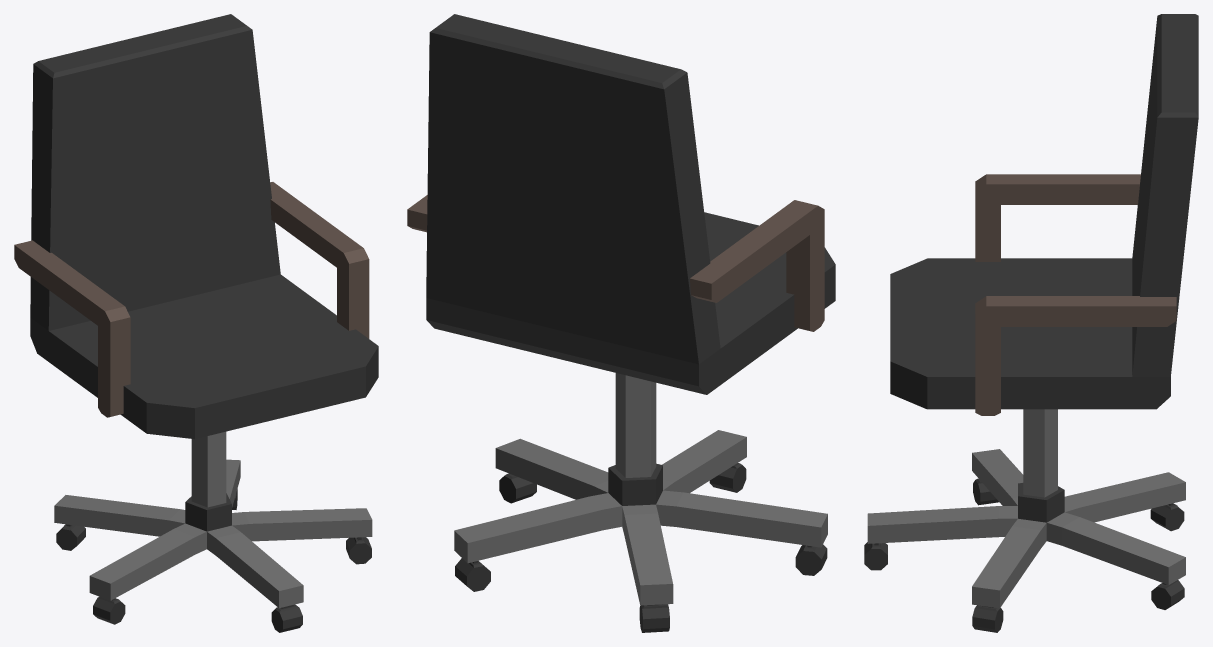
Rendered from office_chair.fbx.
3 views of the same model, side by side, from view 1: azimuth 30°, elevation 25°; view 2: azimuth 150°, elevation 25°; view 3: azimuth 270°, elevation 25° (orthographic). The views are drawn at different scales.
Parts seen in each view (by area): view 1: OfficeChair_01; view 2: OfficeChair_01; view 3: OfficeChair_01.
Part boxes in pixels (x1,y1,x2,y2): OfficeChair_01: (14,14,378,632); OfficeChair_01: (407,14,835,632); OfficeChair_01: (864,14,1198,632).
Size of the model in its own units: 116 by 192 by 116.
